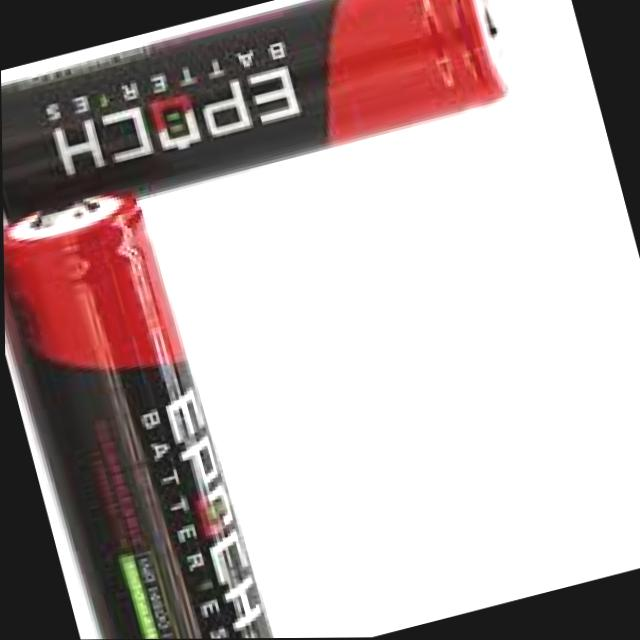B3: (2, 171, 278, 640), (0, 0, 536, 235)
